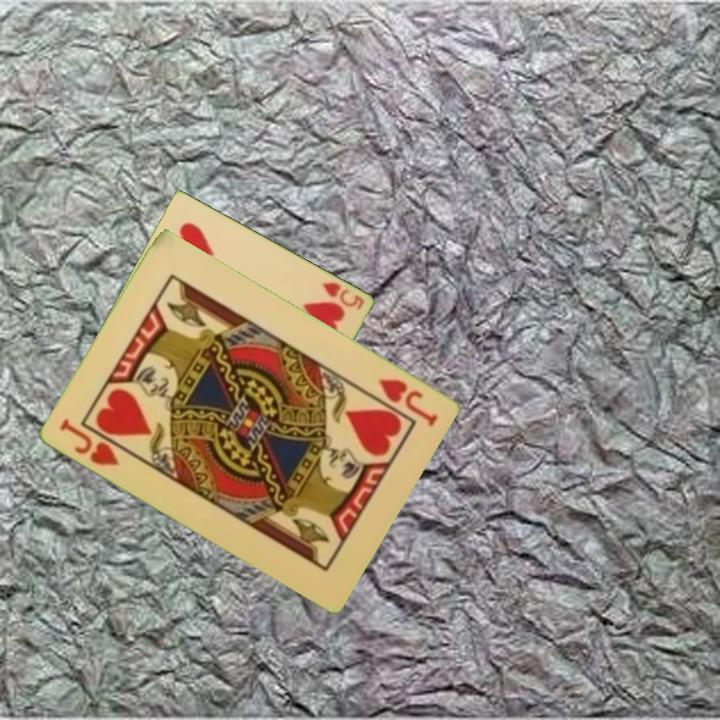5h: (318, 279, 367, 313)
Jh: (55, 415, 133, 469), (374, 375, 440, 429)
